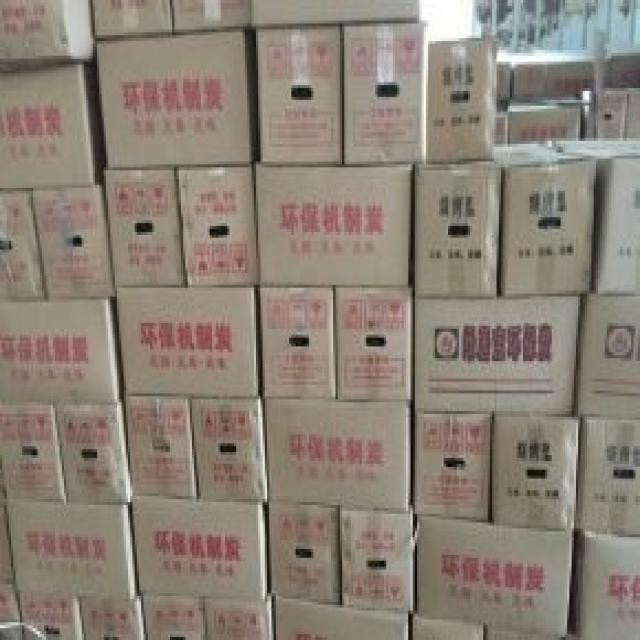box: (96, 30, 259, 167), (253, 158, 412, 287), (414, 295, 582, 414), (417, 516, 574, 636), (266, 397, 409, 512), (115, 286, 261, 396), (494, 142, 597, 294), (130, 493, 269, 601), (0, 59, 107, 190), (547, 140, 638, 294), (7, 503, 138, 602), (0, 298, 122, 402), (411, 159, 501, 296), (255, 26, 343, 166), (341, 22, 427, 165), (492, 414, 580, 529), (31, 183, 116, 300), (179, 165, 259, 285), (104, 169, 185, 287), (56, 386, 133, 504), (335, 287, 413, 399), (427, 37, 496, 161), (414, 413, 493, 521), (260, 287, 336, 398), (190, 395, 268, 501), (576, 292, 638, 417), (340, 506, 414, 610), (268, 502, 340, 605), (576, 418, 638, 537), (571, 529, 638, 637), (126, 396, 196, 499), (0, 403, 68, 501), (0, 1, 94, 70), (273, 597, 409, 637), (0, 190, 46, 300), (250, 2, 419, 28), (205, 587, 274, 637), (79, 586, 146, 637), (93, 1, 172, 38), (18, 594, 84, 637), (142, 594, 205, 637), (172, 1, 249, 32), (413, 616, 483, 637)
